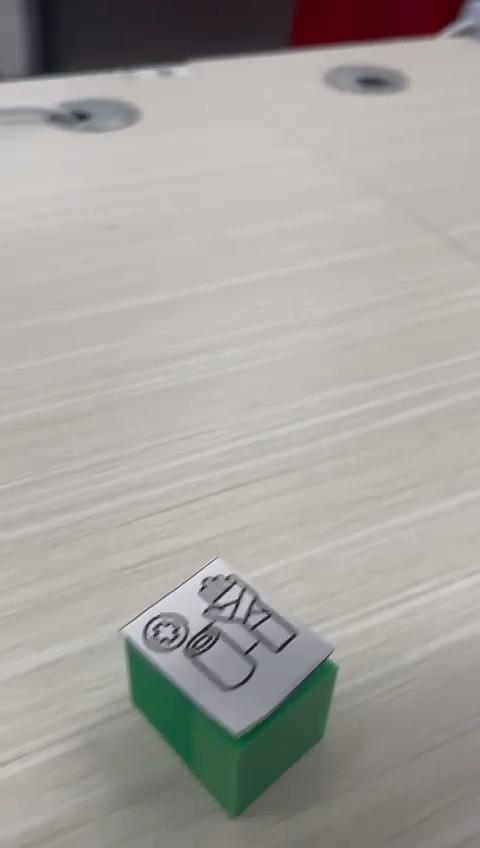Bandages: (120, 560, 339, 819)
